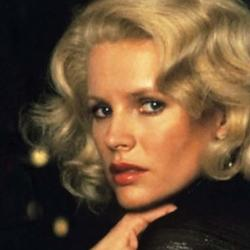face: (21, 2, 247, 213)
